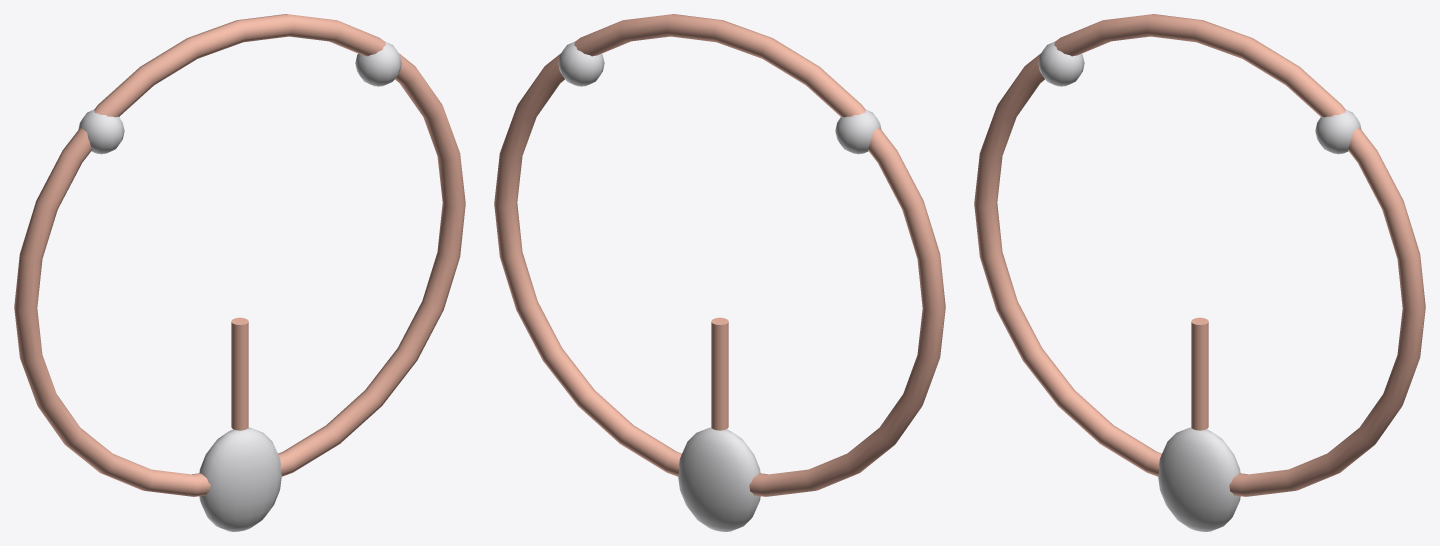
File: VM-DAM-SH40508996.glb
3 views of the same model, side by side, from view 1: azimuth 30°, elevation 25°; view 2: azimuth 150°, elevation 25°; view 3: azimuth 330°, elevation 25° (orthographic).
Visible parts, largest first — view 1: Collar De Cadena Fossil Harlow; view 2: Collar De Cadena Fossil Harlow; view 3: Collar De Cadena Fossil Harlow.
Part boxes in pixels (x1,y1,x2,y2): Collar De Cadena Fossil Harlow: [14, 14, 465, 531]; Collar De Cadena Fossil Harlow: [494, 14, 945, 531]; Collar De Cadena Fossil Harlow: [974, 14, 1425, 531].
Bounding box in the file's own units: 0.1887 × 0.2048 × 0.0187.
